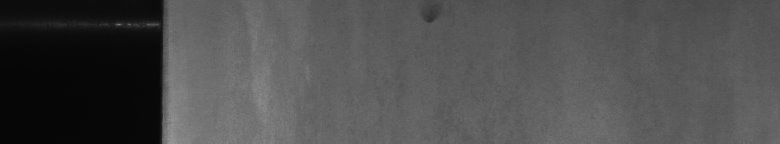fi: (422, 10, 439, 28)
